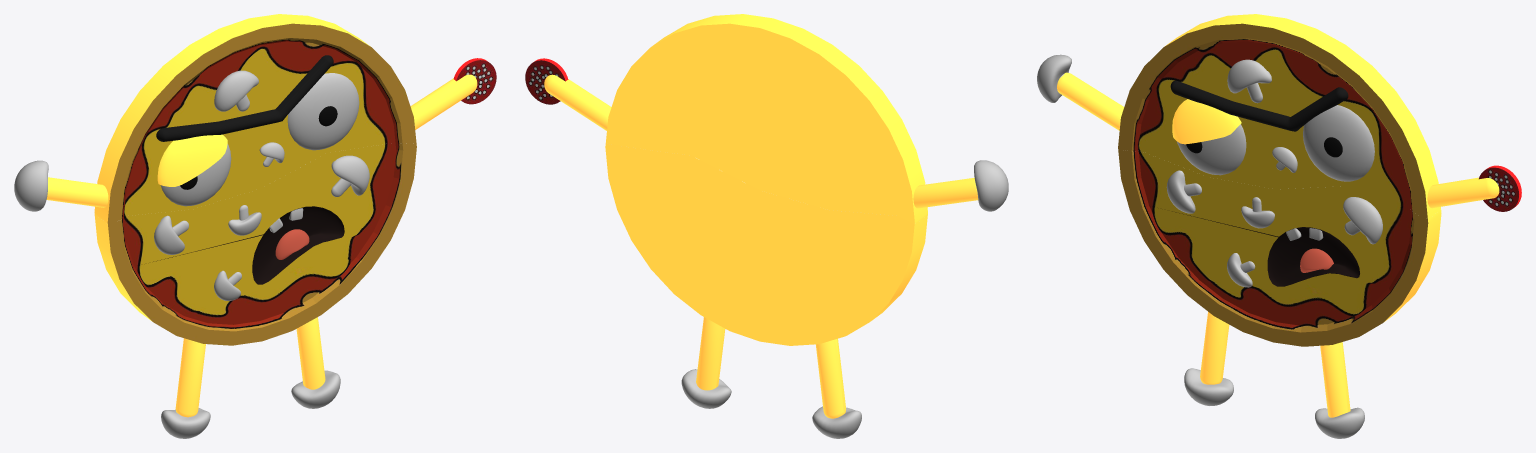
File: pizza.fbx
The picture shows the model from 3 angles, left to right: view 1: azimuth 30°, elevation 25°; view 2: azimuth 150°, elevation 25°; view 3: azimuth 330°, elevation 25°; orthographic projection.
Visible parts, largest first — view 1: Pilz Belag mitte ob, Teig, Bein R, Bein L, Pilz belag L, Pilz Bein L, Pilz Bein R, Pilz Belag R, Zunge, Pilz Belag mitte, Pilz Belag unten; view 2: Pilz Belag mitte ob, Teig, Bein R, Bein L, Pilz Bein L, Pilz Bein R; view 3: Pilz Belag mitte ob, Teig, Bein L, Bein R, Pilz belag L, Pilz Bein R, Pilz Bein L, Pilz Belag R, Pilz Belag mitte, Pilz Belag unten, Zunge.
Boxes of the visible parts, bbox=[...] form: Pilz Belag mitte ob: bbox=[14, 14, 496, 223]; Teig: bbox=[94, 142, 416, 345]; Bein R: bbox=[175, 338, 205, 417]; Bein L: bbox=[296, 317, 325, 389]; Pilz belag L: bbox=[331, 155, 369, 196]; Pilz Bein L: bbox=[291, 370, 340, 408]; Pilz Bein R: bbox=[161, 408, 210, 438]; Pilz Belag R: bbox=[154, 215, 188, 254]; Zunge: bbox=[275, 229, 309, 259]; Pilz Belag mitte: bbox=[228, 205, 261, 235]; Pilz Belag unten: bbox=[214, 270, 241, 300]; Pilz Belag mitte ob: bbox=[525, 14, 1008, 224]; Teig: bbox=[605, 143, 927, 345]; Bein R: bbox=[815, 338, 845, 418]; Bein L: bbox=[696, 317, 725, 390]; Pilz Bein L: bbox=[681, 369, 731, 408]; Pilz Bein R: bbox=[812, 406, 861, 438]; Pilz Belag mitte ob: bbox=[1037, 14, 1521, 218]; Teig: bbox=[1118, 149, 1441, 346]; Bein L: bbox=[1320, 342, 1350, 417]; Bein R: bbox=[1200, 312, 1229, 384]; Pilz belag L: bbox=[1343, 197, 1382, 244]; Pilz Bein R: bbox=[1184, 368, 1233, 405]; Pilz Bein L: bbox=[1315, 407, 1364, 438]; Pilz Belag R: bbox=[1166, 170, 1201, 213]; Pilz Belag mitte: bbox=[1241, 197, 1274, 228]; Pilz Belag unten: bbox=[1227, 253, 1255, 287]; Zunge: bbox=[1300, 248, 1333, 272].
Bounding box in the file's own units: 998 × 792 × 77.69.
Materials: 12 (2 with a texture image).
